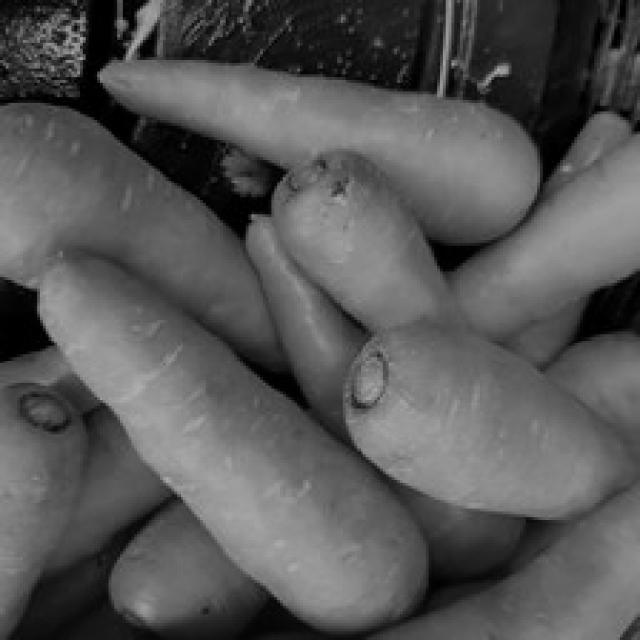Fresh_Carrot: (0, 107, 255, 310), (118, 42, 521, 155)
